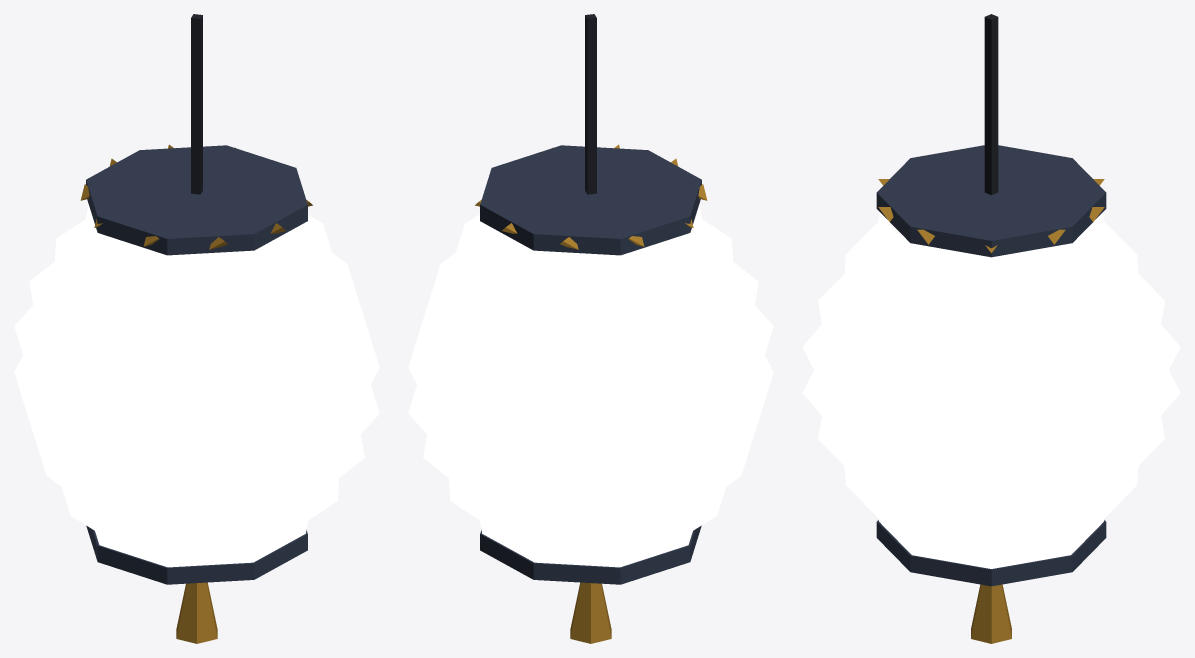
Rendered from bw_targ_paper_lantern.glb.
The picture shows the model from 3 angles, left to right: view 1: azimuth 30°, elevation 25°; view 2: azimuth 150°, elevation 25°; view 3: azimuth 270°, elevation 25°; orthographic projection.
Parts seen in each view (by area): view 1: binding.002, binding.001, binding.003, binding; view 2: binding.002, binding.001, binding.003, binding; view 3: binding.002, binding.001, binding, binding.003.
Part boxes in pixels (x1=…): binding.002: x1=14, y1=204, x2=379, y2=567; binding.001: x1=86, y1=145, x2=307, y2=584; binding.003: x1=80, y1=144, x2=312, y2=643; binding: x1=191, y1=14, x2=202, y2=194; binding.002: x1=408, y1=204, x2=773, y2=567; binding.001: x1=480, y1=145, x2=701, y2=584; binding.003: x1=475, y1=144, x2=707, y2=643; binding: x1=585, y1=14, x2=596, y2=194; binding.002: x1=802, y1=212, x2=1180, y2=568; binding.001: x1=876, y1=145, x2=1106, y2=586; binding: x1=984, y1=14, x2=998, y2=195; binding.003: x1=878, y1=156, x2=1104, y2=643.
Size of the model in its own units: 0.5 by 0.9 by 0.5.
